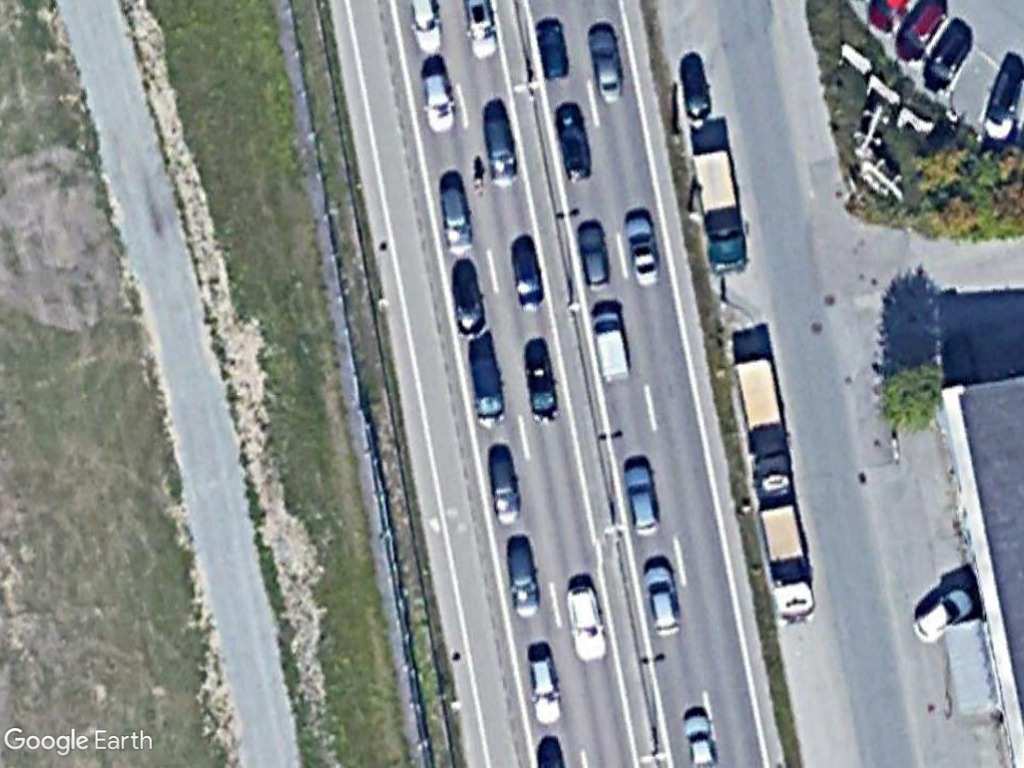car: (913, 18, 980, 97), (907, 586, 979, 646), (552, 97, 598, 187), (479, 104, 526, 192), (566, 578, 612, 667), (620, 457, 665, 544), (434, 179, 481, 262), (501, 538, 546, 624), (585, 21, 628, 107), (467, 352, 512, 434), (641, 558, 685, 641), (622, 207, 664, 293), (506, 237, 550, 316), (523, 649, 565, 730), (533, 15, 575, 93), (484, 449, 527, 525), (417, 65, 460, 138), (575, 217, 613, 293)
truck: (732, 352, 795, 501), (691, 146, 751, 277), (760, 500, 820, 627)
van: (589, 308, 633, 388)
